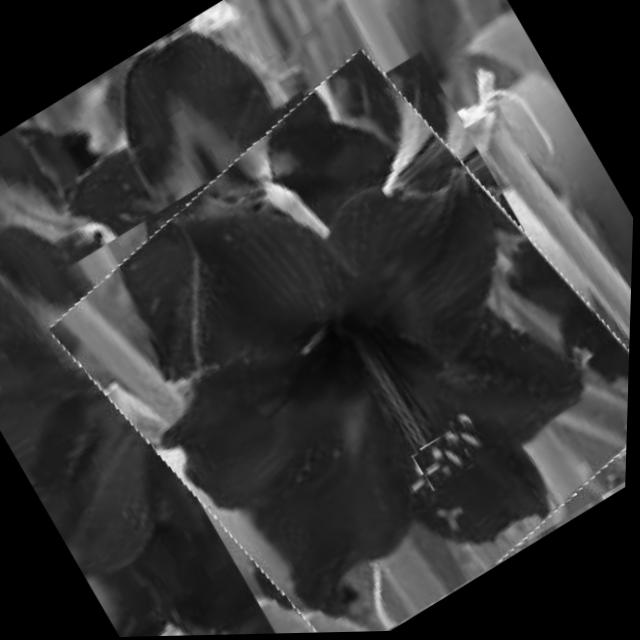Flower: (31, 23, 639, 639), (414, 429, 479, 494)
